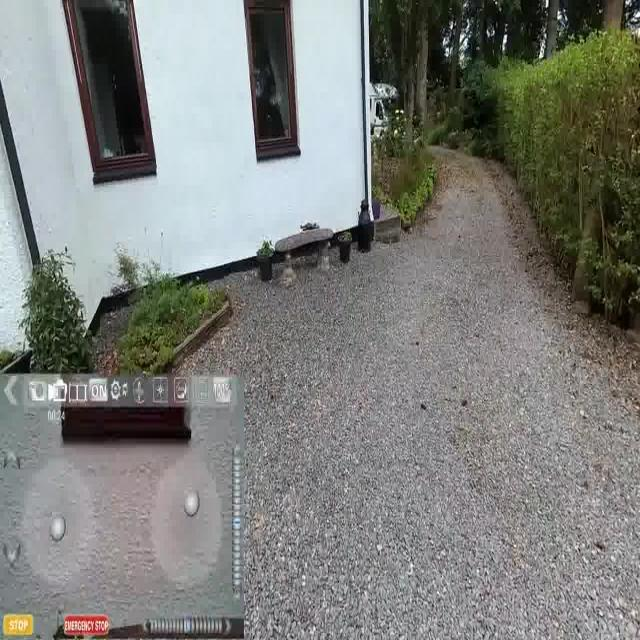drones: (296, 220, 322, 235)
